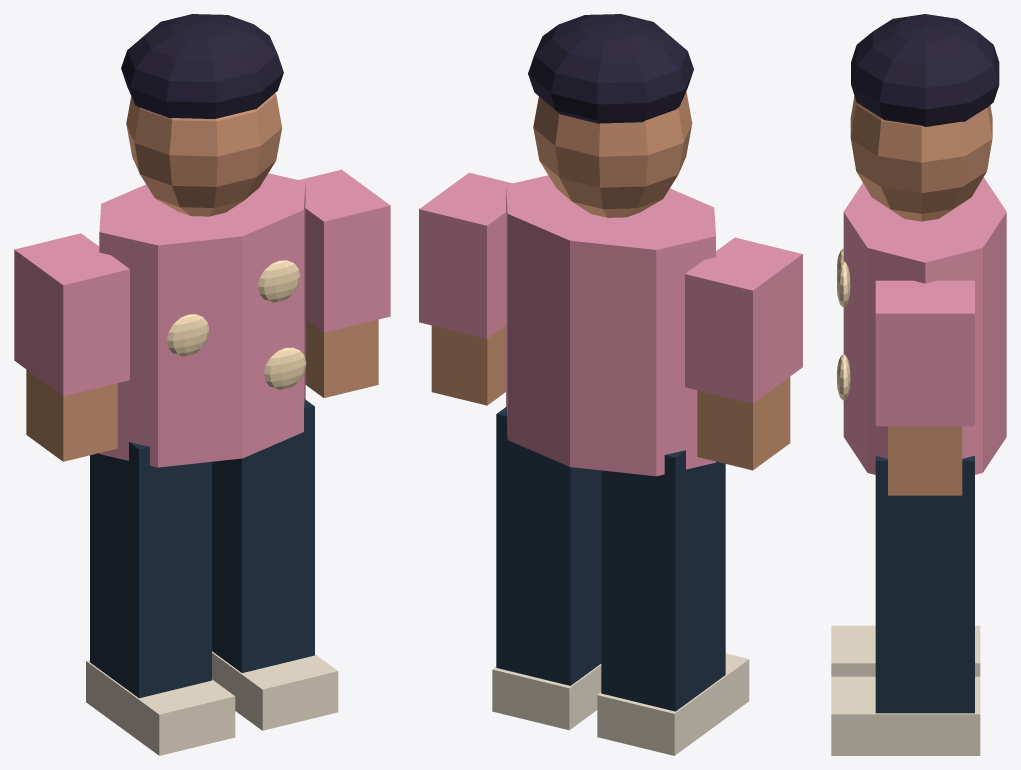
Rendered from character-street-citizen.obj.
3 views of the same model, side by side, from view 1: azimuth 30°, elevation 25°; view 2: azimuth 150°, elevation 25°; view 3: azimuth 270°, elevation 25° (orthographic).
Parts seen in each view (by area): view 1: character-street-citizen; view 2: character-street-citizen; view 3: character-street-citizen.
Boxes of the visible parts, x1,y1,x2,y2 form: character-street-citizen: (14, 14, 390, 755); character-street-citizen: (419, 14, 802, 755); character-street-citizen: (831, 14, 1006, 755).
Bounding box in the file's own units: 1.08 × 2.14 × 0.495.
